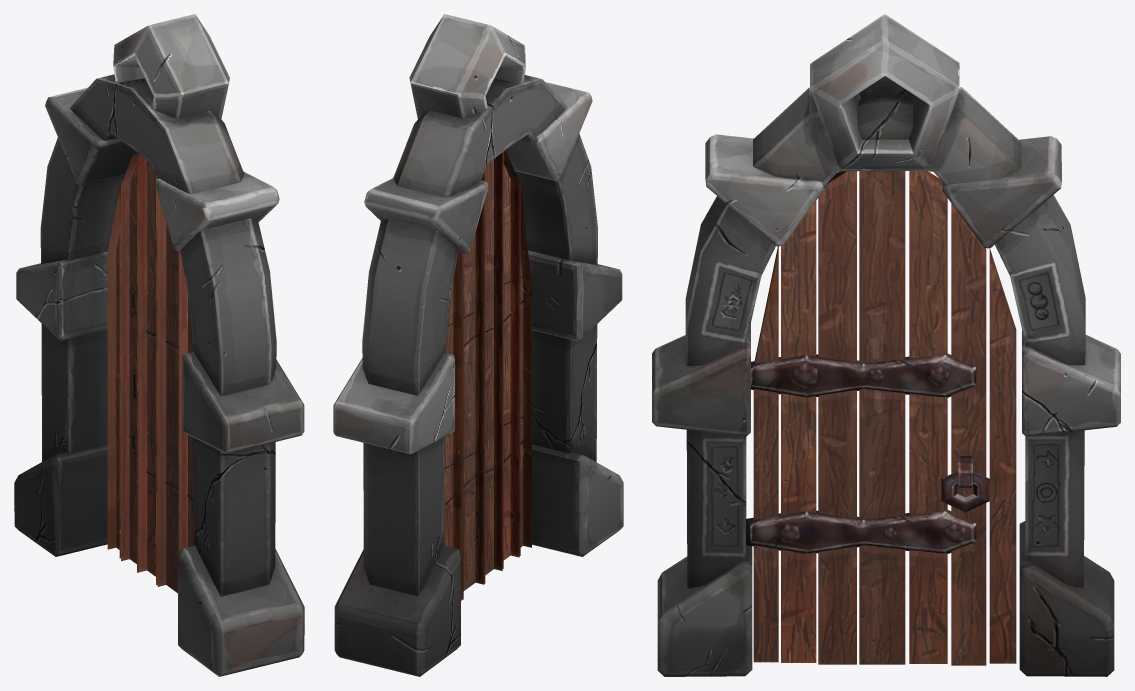
Rendered from dwarf_dungeon_gate.glb.
The picture shows the model from 3 angles, left to right: view 1: azimuth 30°, elevation 25°; view 2: azimuth 150°, elevation 25°; view 3: azimuth 270°, elevation 25°; orthographic projection. The views are drawn at different scales.
Parts seen in each view (by area): view 1: Object_2; view 2: Object_2; view 3: Object_2.
Boxes of the visible parts, x1,y1,x2,y2 form: Object_2: (14,14,304,676); Object_2: (333,14,623,676); Object_2: (652,14,1120,676).
Size of the model in its own units: 80.59 by 464 by 310.
1 material, 1 textured.
